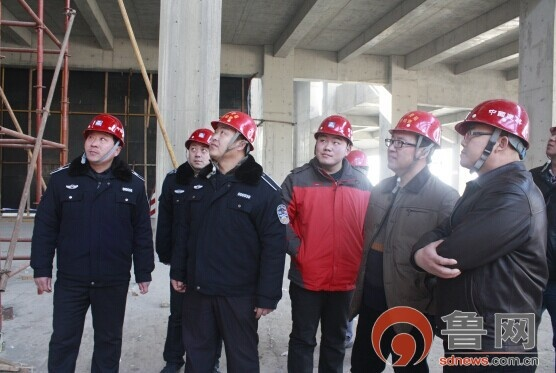red: (456, 94, 534, 177), (381, 110, 443, 174), (208, 110, 255, 164), (81, 112, 124, 165), (312, 114, 356, 165), (184, 128, 215, 172)
